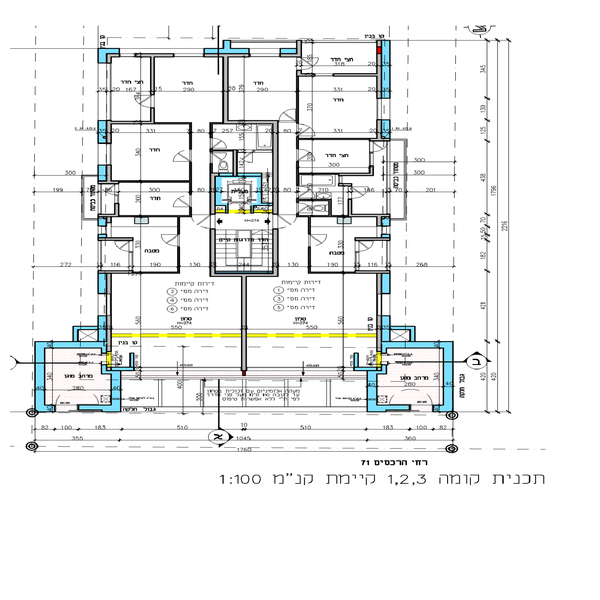room: (104, 269, 247, 378), (239, 271, 388, 375), (210, 121, 280, 277), (297, 135, 407, 221), (101, 119, 192, 218), (295, 43, 387, 139), (34, 344, 123, 410), (366, 344, 452, 410), (309, 219, 393, 274)
